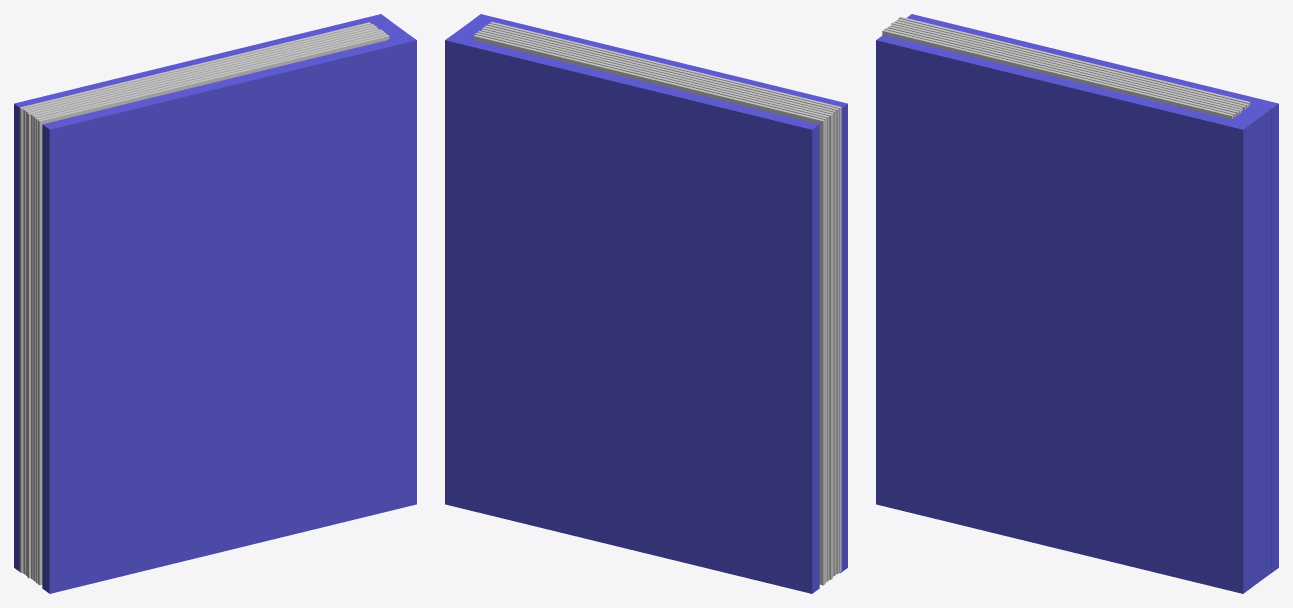
The model's file is book2.fbx.
The picture shows the model from 3 angles, left to right: view 1: azimuth 30°, elevation 25°; view 2: azimuth 150°, elevation 25°; view 3: azimuth 330°, elevation 25°; orthographic projection.
Parts seen in each view (by area): view 1: Cube.001; view 2: Cube.001; view 3: Cube.001.
Boxes of the visible parts, box(x1,y1,x2,y2) form: Cube.001: box(14, 14, 416, 593); Cube.001: box(445, 14, 847, 593); Cube.001: box(876, 14, 1278, 593).
Size of the model in its own units: 658 by 794 by 110.
